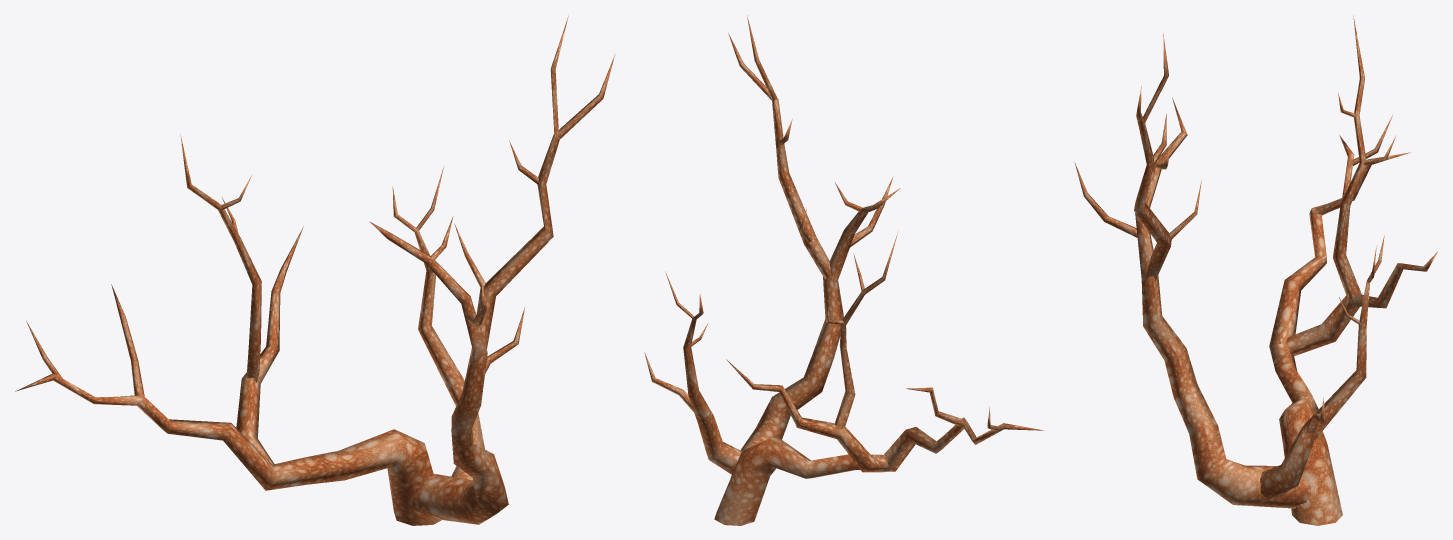
The model's file is environment_grass_seashanhu_001_a.FBX.
3 renders of one model, left to right at view 1: azimuth 30°, elevation 25°; view 2: azimuth 150°, elevation 25°; view 3: azimuth 270°, elevation 25°, orthographic. The views are drawn at different scales.
Visible parts, largest first — view 1: environment_grass_seashanhu_001_a; view 2: environment_grass_seashanhu_001_a; view 3: environment_grass_seashanhu_001_a.
Part boxes in pixels (x1,y1,x2,y2): environment_grass_seashanhu_001_a: (15, 16, 615, 525); environment_grass_seashanhu_001_a: (644, 15, 1043, 525); environment_grass_seashanhu_001_a: (1074, 15, 1437, 525).
Size of the model in its own units: 297 by 307 by 197.
1 material, 1 textured.
